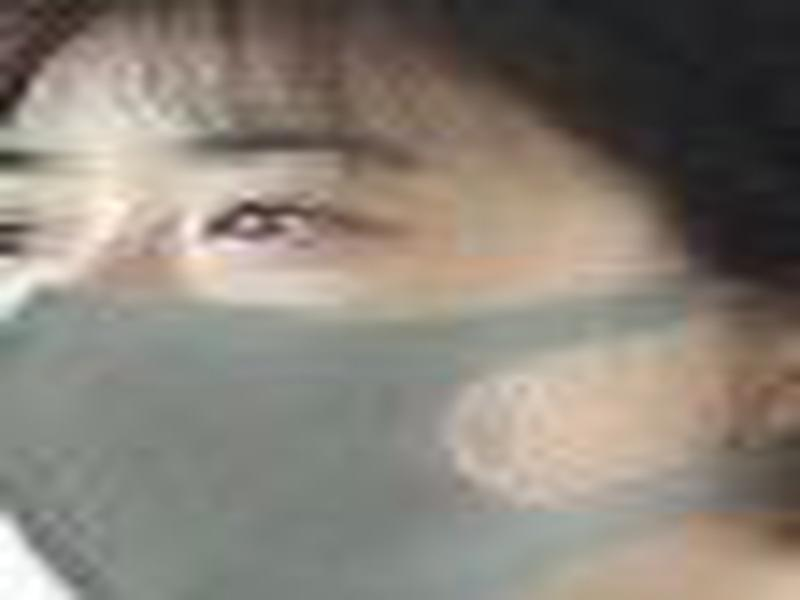with_mask: (3, 1, 800, 600)
